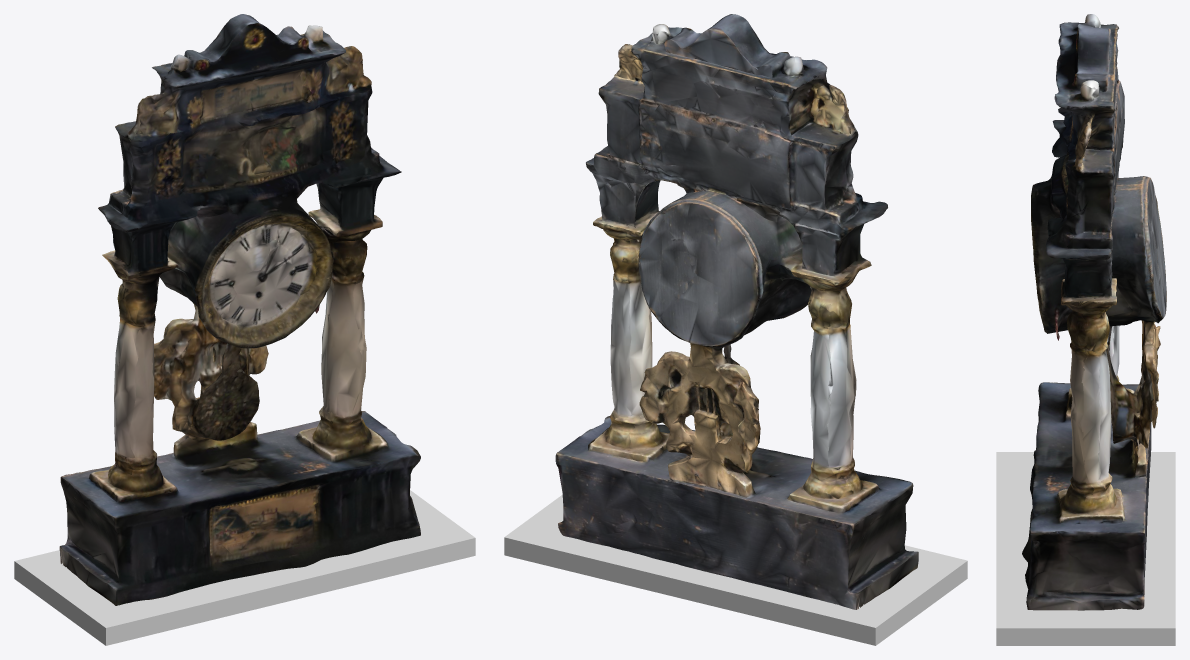
File: clock.glb
3 renders of one model, left to right at view 1: azimuth 30°, elevation 25°; view 2: azimuth 150°, elevation 25°; view 3: azimuth 270°, elevation 25°, orthographic. The views are drawn at different scales.
Visible parts, largest first — view 1: Cube; view 2: Cube; view 3: Cube.
Part boxes in pixels (x1=…): Cube: x1=14, y1=14, x2=475, y2=645; Cube: x1=504, y1=14, x2=967, y2=645; Cube: x1=996, y1=14, x2=1175, y2=645.
Bounding box in the file's own units: 0.5803 × 0.819 × 0.249.
2 materials, 1 textured.
